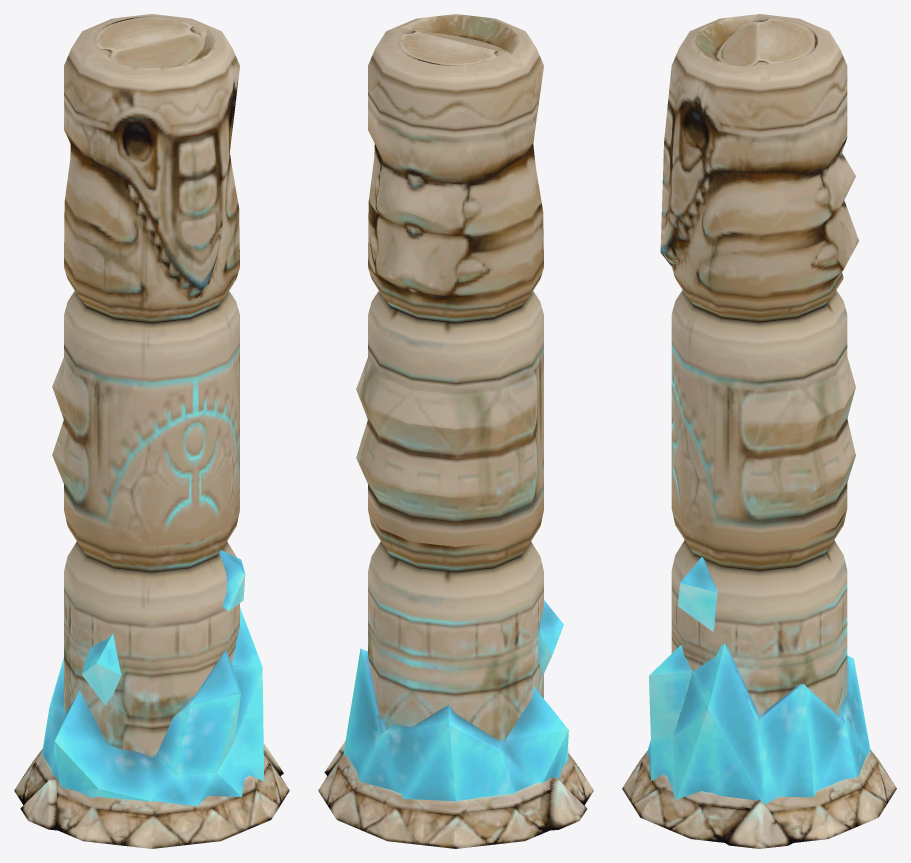
3 views of the same model, side by side, from view 1: azimuth 30°, elevation 25°; view 2: azimuth 150°, elevation 25°; view 3: azimuth 270°, elevation 25° (orthographic).
Parts seen in each view (by area): view 1: objpetro; view 2: objpetro; view 3: objpetro.
Boxes of the visible parts, box(x1,y1,x2,y2) form: objpetro: box(14, 14, 289, 848); objpetro: box(318, 14, 593, 848); objpetro: box(622, 14, 896, 848).
Size of the model in its own units: 201 by 581 by 194.
1 material, 1 textured.
